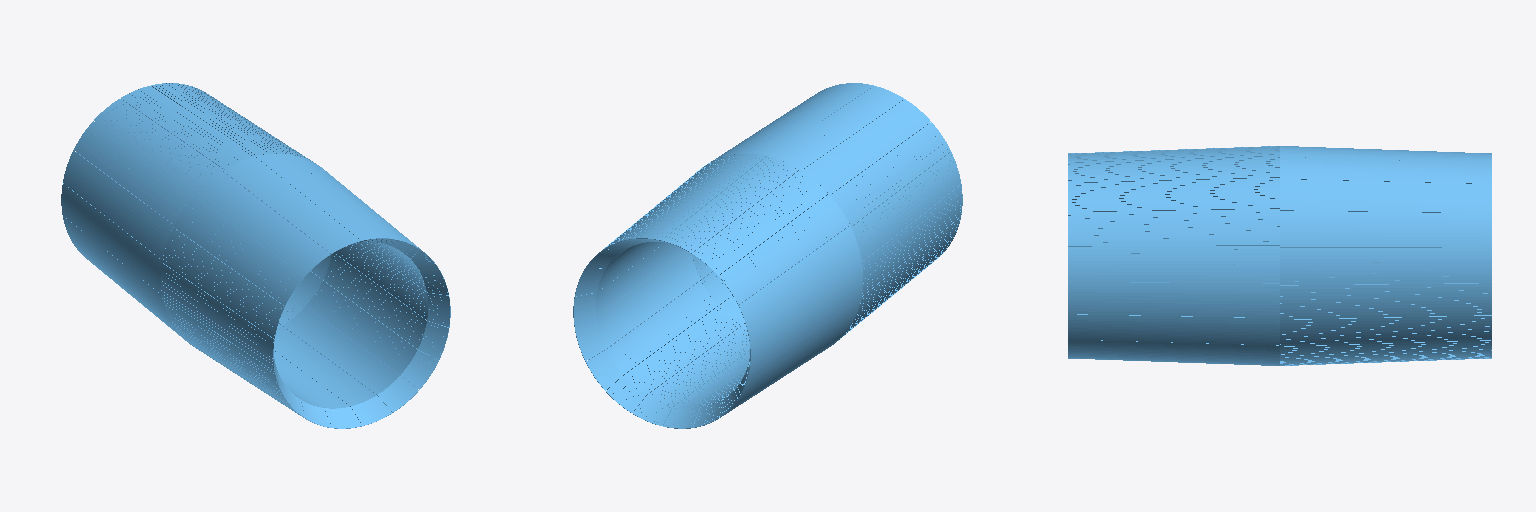
3 views of the same model, side by side, from view 1: azimuth 30°, elevation 25°; view 2: azimuth 150°, elevation 25°; view 3: azimuth 270°, elevation 25° (orthographic).
Parts seen in each view (by area): view 1: Mesh681 eregalgo_EFAW_materials_E_Air340 lp_eregalgo_EFAW341 Mod, Mesh199 eregalgo_EFAW_materials_E_Air99 lp_eregalgo_EFAW100 Mode; view 2: Mesh519 eregalgo_EFAW_materials_E_Air259 lp_eregalgo_EFAW260 Mod, Mesh33 eregalgo_EFAW_materials_E_Air16 lp_eregalgo_EFAW17 Model; view 3: Mesh255 eregalgo_EFAW_materials_E_Air127 lp_eregalgo_EFAW128 Mod, Mesh257 eregalgo_EFAW_materials_E_Air128 lp_eregalgo_EFAW129 Mod, Mesh381 eregalgo_EFAW_materials_E_Air190 lp_eregalgo_EFAW191 Mod, Mesh427 eregalgo_EFAW_materials_E_Air213 lp_eregalgo_EFAW214 Mod, Mesh383 eregalgo_EFAW_materials_E_Air191 lp_eregalgo_EFAW192 Mod, Mesh419 eregalgo_EFAW_materials_E_Air209 lp_eregalgo_EFAW210 Mod, Mesh461 eregalgo_EFAW_materials_E_Air230 lp_eregalgo_EFAW231 Mod, Mesh159 eregalgo_EFAW_materials_E_Air79 lp_eregalgo_EFAW80 Model, Mesh431 eregalgo_EFAW_materials_E_Air215 lp_eregalgo_EFAW216 Mod, Mesh433 eregalgo_EFAW_materials_E_Air216 lp_eregalgo_EFAW217 Mod, Mesh247 eregalgo_EFAW_materials_E_Air123 lp_eregalgo_EFAW124 Mod, Mesh251 eregalgo_EFAW_materials_E_Air125 lp_eregalgo_EFAW126 Mod (+28 smaller).
Boxes of the visible parts, <box> form: Mesh681 eregalgo_EFAW_materials_E_Air340 lp_eregalgo_EFAW341 Mod: <box>195,192,306,276</box>; Mesh199 eregalgo_EFAW_materials_E_Air99 lp_eregalgo_EFAW100 Mode: <box>172,228,284,309</box>; Mesh519 eregalgo_EFAW_materials_E_Air259 lp_eregalgo_EFAW260 Mod: <box>716,191,827,275</box>; Mesh33 eregalgo_EFAW_materials_E_Air16 lp_eregalgo_EFAW17 Model: <box>738,226,851,307</box>; Mesh255 eregalgo_EFAW_materials_E_Air127 lp_eregalgo_EFAW128 Mod: <box>1280,255,1491,258</box>; Mesh257 eregalgo_EFAW_materials_E_Air128 lp_eregalgo_EFAW129 Mod: <box>1280,251,1491,254</box>; Mesh381 eregalgo_EFAW_materials_E_Air190 lp_eregalgo_EFAW191 Mod: <box>1280,244,1491,247</box>; Mesh427 eregalgo_EFAW_materials_E_Air213 lp_eregalgo_EFAW214 Mod: <box>1068,257,1279,260</box>; Mesh383 eregalgo_EFAW_materials_E_Air191 lp_eregalgo_EFAW192 Mod: <box>1280,240,1491,243</box>; Mesh419 eregalgo_EFAW_materials_E_Air209 lp_eregalgo_EFAW210 Mod: <box>1068,241,1279,246</box>; Mesh461 eregalgo_EFAW_materials_E_Air230 lp_eregalgo_EFAW231 Mod: <box>1068,282,1279,286</box>; Mesh159 eregalgo_EFAW_materials_E_Air79 lp_eregalgo_EFAW80 Model: <box>1280,283,1491,288</box>; Mesh431 eregalgo_EFAW_materials_E_Air215 lp_eregalgo_EFAW216 Mod: <box>1068,264,1279,267</box>; Mesh433 eregalgo_EFAW_materials_E_Air216 lp_eregalgo_EFAW217 Mod: <box>1068,268,1279,271</box>; Mesh247 eregalgo_EFAW_materials_E_Air123 lp_eregalgo_EFAW124 Mod: <box>1280,269,1491,273</box>; Mesh251 eregalgo_EFAW_materials_E_Air125 lp_eregalgo_EFAW126 Mod: <box>1280,262,1491,266</box>.
Bounding box in the file's own units: 3.16 × 3.16 × 6.09.